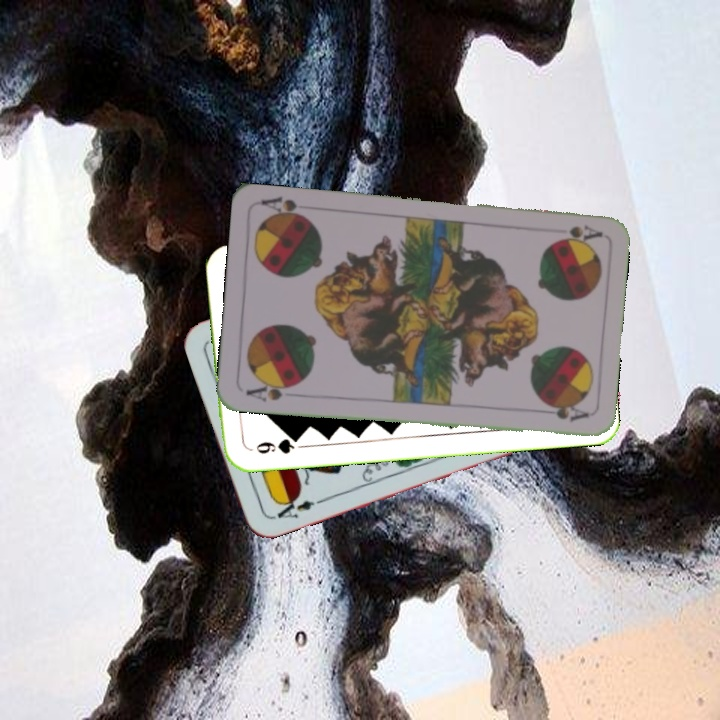EA: (267, 492, 324, 522)
G9: (252, 433, 303, 456)
SA: (242, 378, 300, 404), (552, 221, 604, 245)
